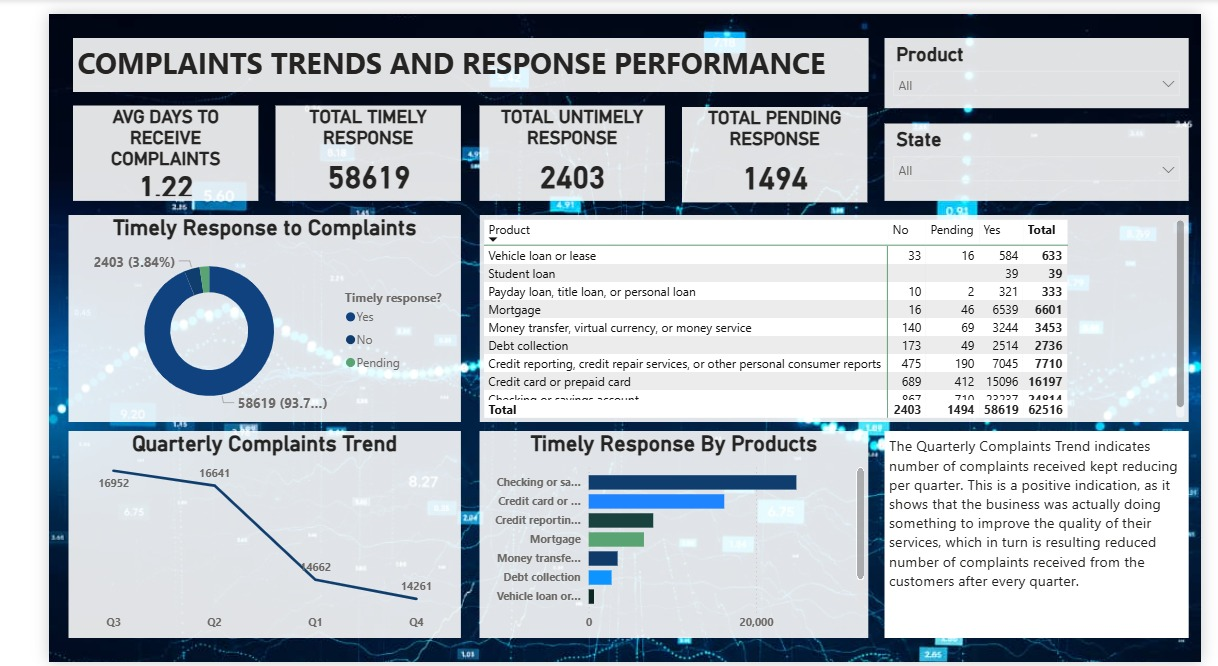

This screenshot's page, from the dashboard's own definition file:
{"tool":"powerbi","page":{"name":"COMPLAINTS TRENDS AND RESPONSE PERFORMANCE","canvas":[1280,720],"ordinal":1},"visuals":[{"type":"card","title":"AVG Days To Receive Complaints","fields":{"Values":["DAX Measures.Avg Days to receive"]},"box":[21.7,88.3,213,106],"z":0},{"type":"card","title":"Total Timely Response","fields":{"Values":["DAX Measures.timely Response"]},"box":[240.6,88.3,213,106],"z":1000},{"type":"card","title":"Total Untimely Response","fields":{"Values":["DAX Measures.Untimely Response"]},"box":[459.4,88.3,213,106],"z":2000},{"type":"card","title":"Total Pending Response","fields":{"Values":["DAX Measures.Pending Response"]},"box":[678.3,88.3,213,106],"z":3000},{"type":"textbox","box":[21.7,13.3,870,63.3],"z":4000},{"type":"donutChart","title":"Timely Response to Complaints","fields":{"Y":["DAX Measures.Total complaints"],"Category":["Table1.Timely response?"]},"box":[20,208.3,436.7,245],"z":5000},{"type":"lineChart","title":"Quarterly Complaints Trend","fields":{"Y":["DAX Measures.Total complaints"],"Category":["CALENDER.QAURTER"]},"box":[21.7,463.3,436.7,245],"z":6000},{"type":"barChart","title":"Timely Response By Products","fields":{"Series":["Table1.Product"],"Y":["CountNonNull(Table1.Timely response?)"],"Category":["Table1.Product"]},"box":[478.3,463.3,431.7,245],"z":7000},{"type":"pivotTable","fields":{"Rows":["Table1.Product"],"Columns":["Table1.Timely response?"],"Values":["DAX Measures.Total complaints"]},"box":[476.7,208.3,788.3,245],"z":8000},{"type":"slicer","fields":{"Values":["Table1.Product"]},"box":[928.3,13.3,338.3,76.7],"z":9000},{"type":"slicer","fields":{"Values":["Table1.State"]},"box":[926.7,108.3,338.3,86.7],"z":10000},{"type":"textbox","box":[926.7,463.3,350,245],"z":11000}]}

Visuals, with their boxes in screenshot pixels (x1, y1, x2, y2), scaled from the page's 1280x720 canvas onto the 1218x666 screenshot:
"AVG Days To Receive Complaints" card: locate(21, 82, 223, 180)
"Total Timely Response" card: locate(229, 82, 432, 180)
"Total Untimely Response" card: locate(437, 82, 640, 180)
"Total Pending Response" card: locate(645, 82, 848, 180)
textbox: locate(21, 12, 849, 71)
"Timely Response to Complaints" donutChart: locate(19, 193, 435, 419)
"Quarterly Complaints Trend" lineChart: locate(21, 429, 436, 655)
"Timely Response By Products" barChart: locate(455, 429, 866, 655)
pivotTable - Table1.Product x Table1.Timely response?: locate(454, 193, 1204, 419)
slicer - Table1.Product: locate(883, 12, 1205, 83)
slicer - Table1.State: locate(882, 100, 1204, 180)
textbox: locate(882, 429, 1215, 655)
